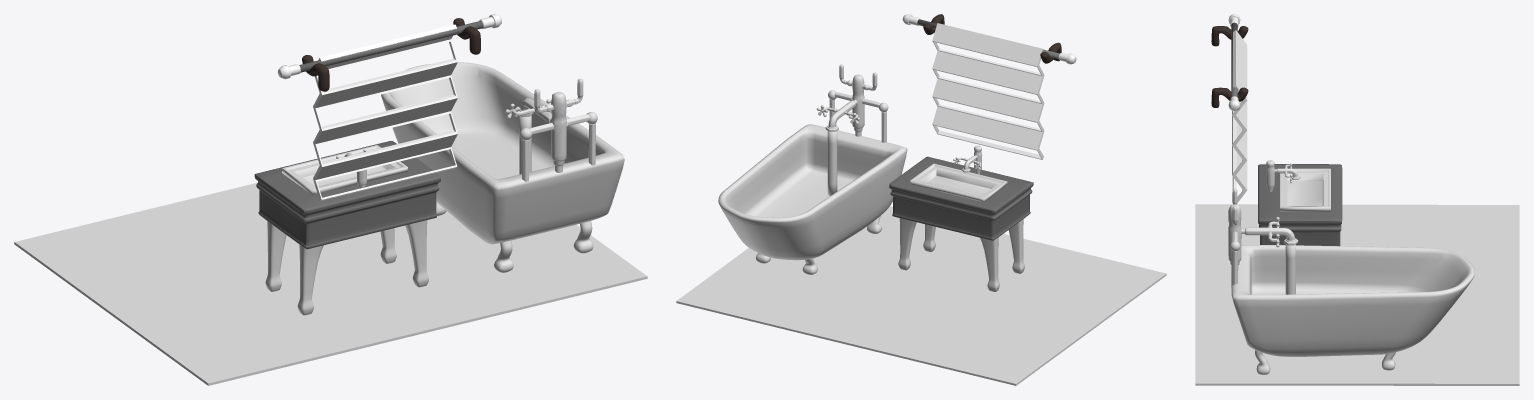
The model's file is Bath room.fbx.
The picture shows the model from 3 angles, left to right: view 1: azimuth 30°, elevation 25°; view 2: azimuth 150°, elevation 25°; view 3: azimuth 270°, elevation 25°; orthographic projection. The views are drawn at different scales.
Visible parts, largest first — view 1: walls.006, Bath, umywalka, Curtain; view 2: walls.006, Bath, Curtain, umywalka, Plane; view 3: walls.006, Bath, umywalka, Curtain, Plane.
Boxes of the visible parts, x1=… form: walls.006: x1=14, y1=182, x2=647, y2=385; Bath: x1=381, y1=62, x2=624, y2=272; umywalka: x1=254, y1=141, x2=440, y2=315; Curtain: x1=277, y1=14, x2=501, y2=201; walls.006: x1=676, y1=206, x2=1166, y2=385; Bath: x1=718, y1=64, x2=907, y2=274; Curtain: x1=902, y1=14, x2=1076, y2=159; umywalka: x1=889, y1=145, x2=1033, y2=291; Plane: x1=827, y1=131, x2=837, y2=195; walls.006: x1=1195, y1=204, x2=1519, y2=385; Bath: x1=1228, y1=188, x2=1474, y2=374; umywalka: x1=1258, y1=160, x2=1342, y2=246; Curtain: x1=1211, y1=14, x2=1248, y2=203; Plane: x1=1285, y1=244, x2=1295, y2=294.
Size of the model in its own units: 3.47 by 2.09 by 2.64.
